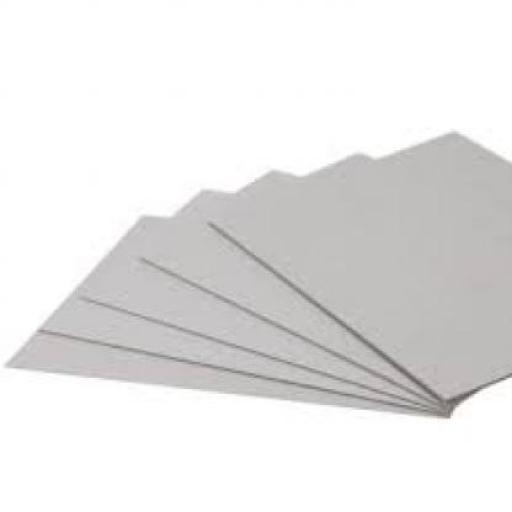cardboard: (2, 130, 510, 416), (75, 168, 510, 408), (2, 212, 510, 416), (34, 187, 510, 403), (132, 148, 510, 405), (205, 127, 510, 396)
